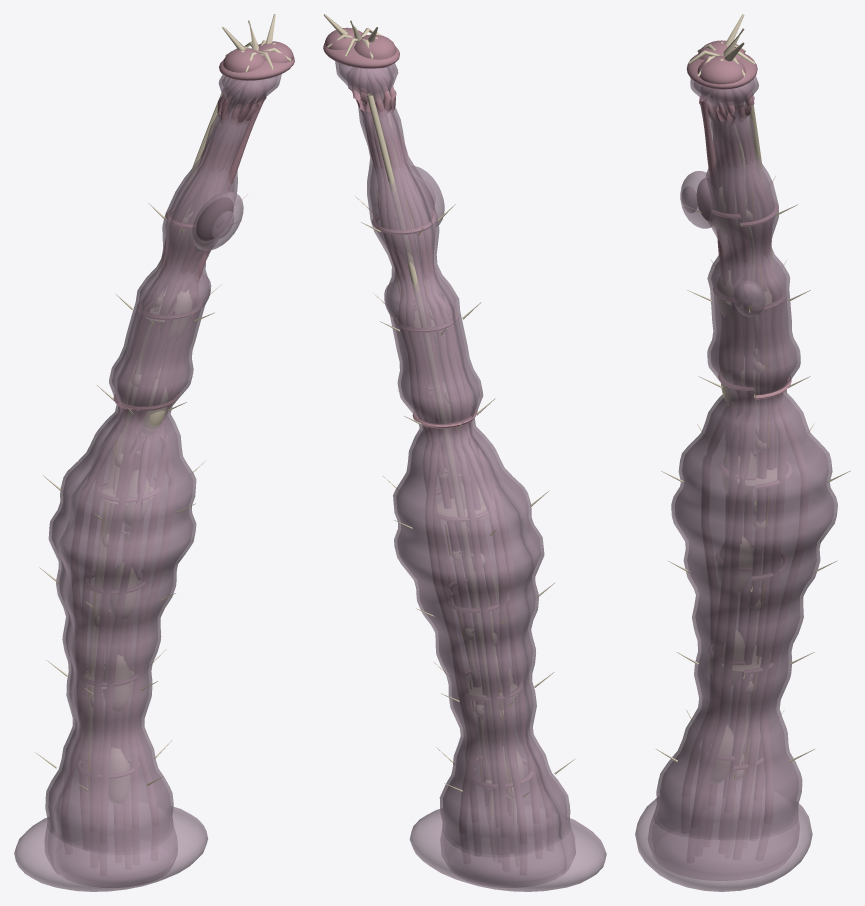
File: gang_hero.glb
3 views of the same model, side by side, from view 1: azimuth 30°, elevation 25°; view 2: azimuth 150°, elevation 25°; view 3: azimuth 270°, elevation 25° (orthographic). The views are drawn at different scales.
Parts seen in each view (by area): view 1: MEMBRANE_epithelial_shell, MUSCLE, MEMBRANE_root_collar, PRESSURE, VASCULAR_dorsal_channel, OCELLUS_cornea, DIGESTIVE_intake_groove, NERVE, PIGMENT_retinal_cup, TIP_adhesive_disk, CILIUM, TIP_probing_lobe; view 2: MEMBRANE_epithelial_shell, MUSCLE, MEMBRANE_root_collar, DIGESTIVE_intake_groove, NERVE, TIP_adhesive_disk, CILIUM, TIP_probing_lobe, PRESSURE, OCELLUS_cornea, COLLAGEN, GANGLION; view 3: MEMBRANE_epithelial_shell, MUSCLE, MEMBRANE_root_collar, PRESSURE, VASCULAR_dorsal_channel, OCELLUS_cornea, NERVE, TIP_probing_lobe.001, DIGESTIVE_intake_groove, STATOCYST_chamber, TIP_adhesive_disk, CILIUM (+4 smaller).
Part boxes in pixels (<box>): MEMBRANE_epithelial_shell: <box>44,74,281,887</box>; MUSCLE: <box>61,79,268,843</box>; MEMBRANE_root_collar: <box>14,806,207,891</box>; PRESSURE: <box>101,217,211,804</box>; VASCULAR_dorsal_channel: <box>121,99,263,826</box>; OCELLUS_cornea: <box>192,191,243,250</box>; DIGESTIVE_intake_groove: <box>87,91,223,814</box>; NERVE: <box>91,125,219,747</box>; PIGMENT_retinal_cup: <box>196,197,233,240</box>; TIP_adhesive_disk: <box>219,48,294,80</box>; CILIUM: <box>35,194,248,791</box>; TIP_probing_lobe: <box>223,48,264,80</box>; MEMBRANE_epithelial_shell: <box>335,61,575,887</box>; MUSCLE: <box>347,67,553,844</box>; MEMBRANE_root_collar: <box>409,808,606,891</box>; DIGESTIVE_intake_groove: <box>366,93,498,792</box>; NERVE: <box>352,73,516,826</box>; TIP_adhesive_disk: <box>323,35,399,68</box>; CILIUM: <box>354,195,574,797</box>; TIP_probing_lobe: <box>354,35,396,68</box>; PRESSURE: <box>428,300,523,797</box>; OCELLUS_cornea: <box>412,166,444,226</box>; COLLAGEN: <box>414,310,517,697</box>; GANGLION: <box>411,220,514,797</box>; MEMBRANE_epithelial_shell: <box>648,76,837,880</box>; MUSCLE: <box>682,85,808,827</box>; MEMBRANE_root_collar: <box>635,796,812,891</box>; PRESSURE: <box>699,187,756,783</box>; VASCULAR_dorsal_channel: <box>699,98,735,810</box>; OCELLUS_cornea: <box>680,171,715,228</box>; NERVE: <box>732,93,764,811</box>; TIP_probing_lobe.001: <box>697,55,745,84</box>; DIGESTIVE_intake_groove: <box>748,105,777,801</box>; STATOCYST_chamber: <box>733,281,765,316</box>; TIP_adhesive_disk: <box>686,54,757,89</box>; CILIUM: <box>656,176,850,779</box>.
Size of the model in its own units: 0.2567 by 0.7415 by 0.158.
